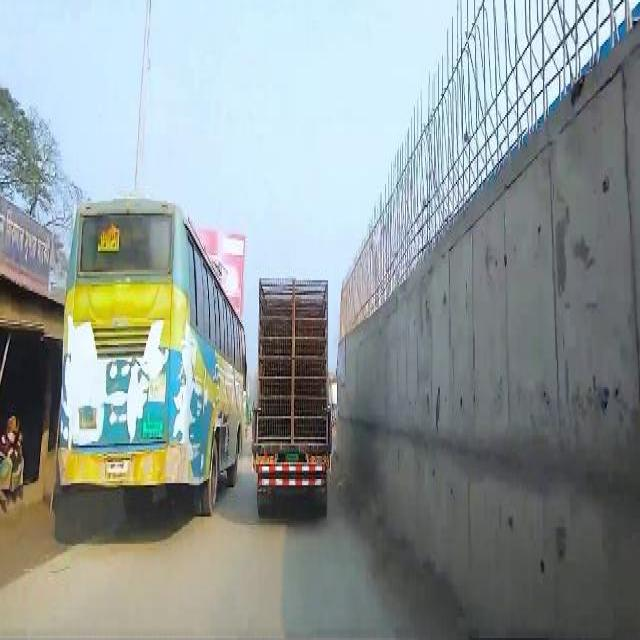vehicle: (62, 196, 247, 509), (257, 275, 332, 513)
